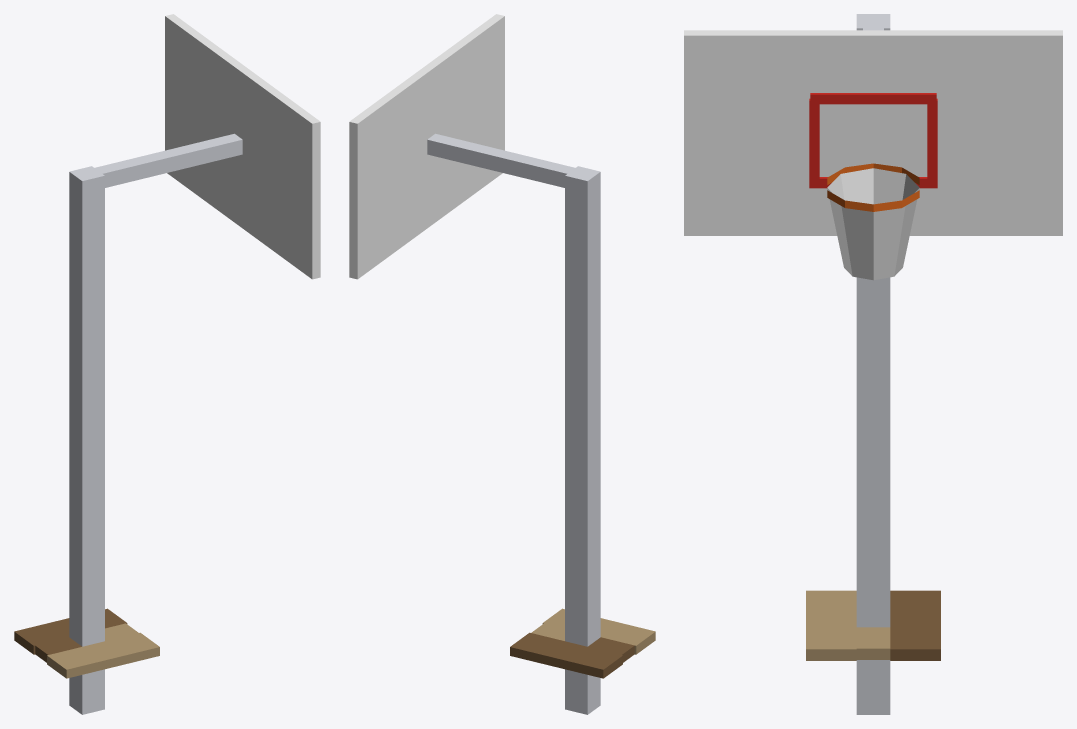
The model's file is aro_basquet.obj.
3 views of the same model, side by side, from view 1: azimuth 30°, elevation 25°; view 2: azimuth 150°, elevation 25°; view 3: azimuth 270°, elevation 25° (orthographic). The views are drawn at different scales.
Visible parts, largest first — view 1: aro_basquet; view 2: aro_basquet; view 3: aro_basquet.
Boxes of the visible parts, <box> form: aro_basquet: <box>14,14,320,714</box>; aro_basquet: <box>349,14,655,714</box>; aro_basquet: <box>684,14,1062,714</box>.
Bounding box in the file's own units: 1.94 × 4.05 × 1.8.
